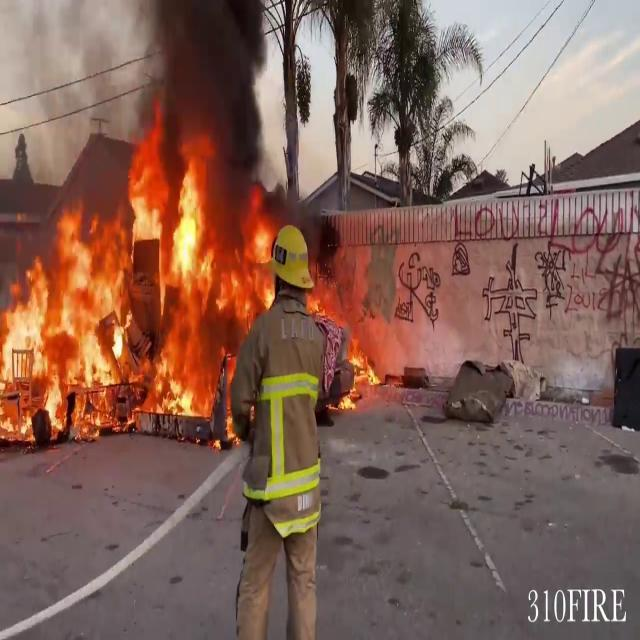Fire: (0, 125, 276, 444), (338, 337, 382, 409)
Smoke: (131, 0, 282, 184)
